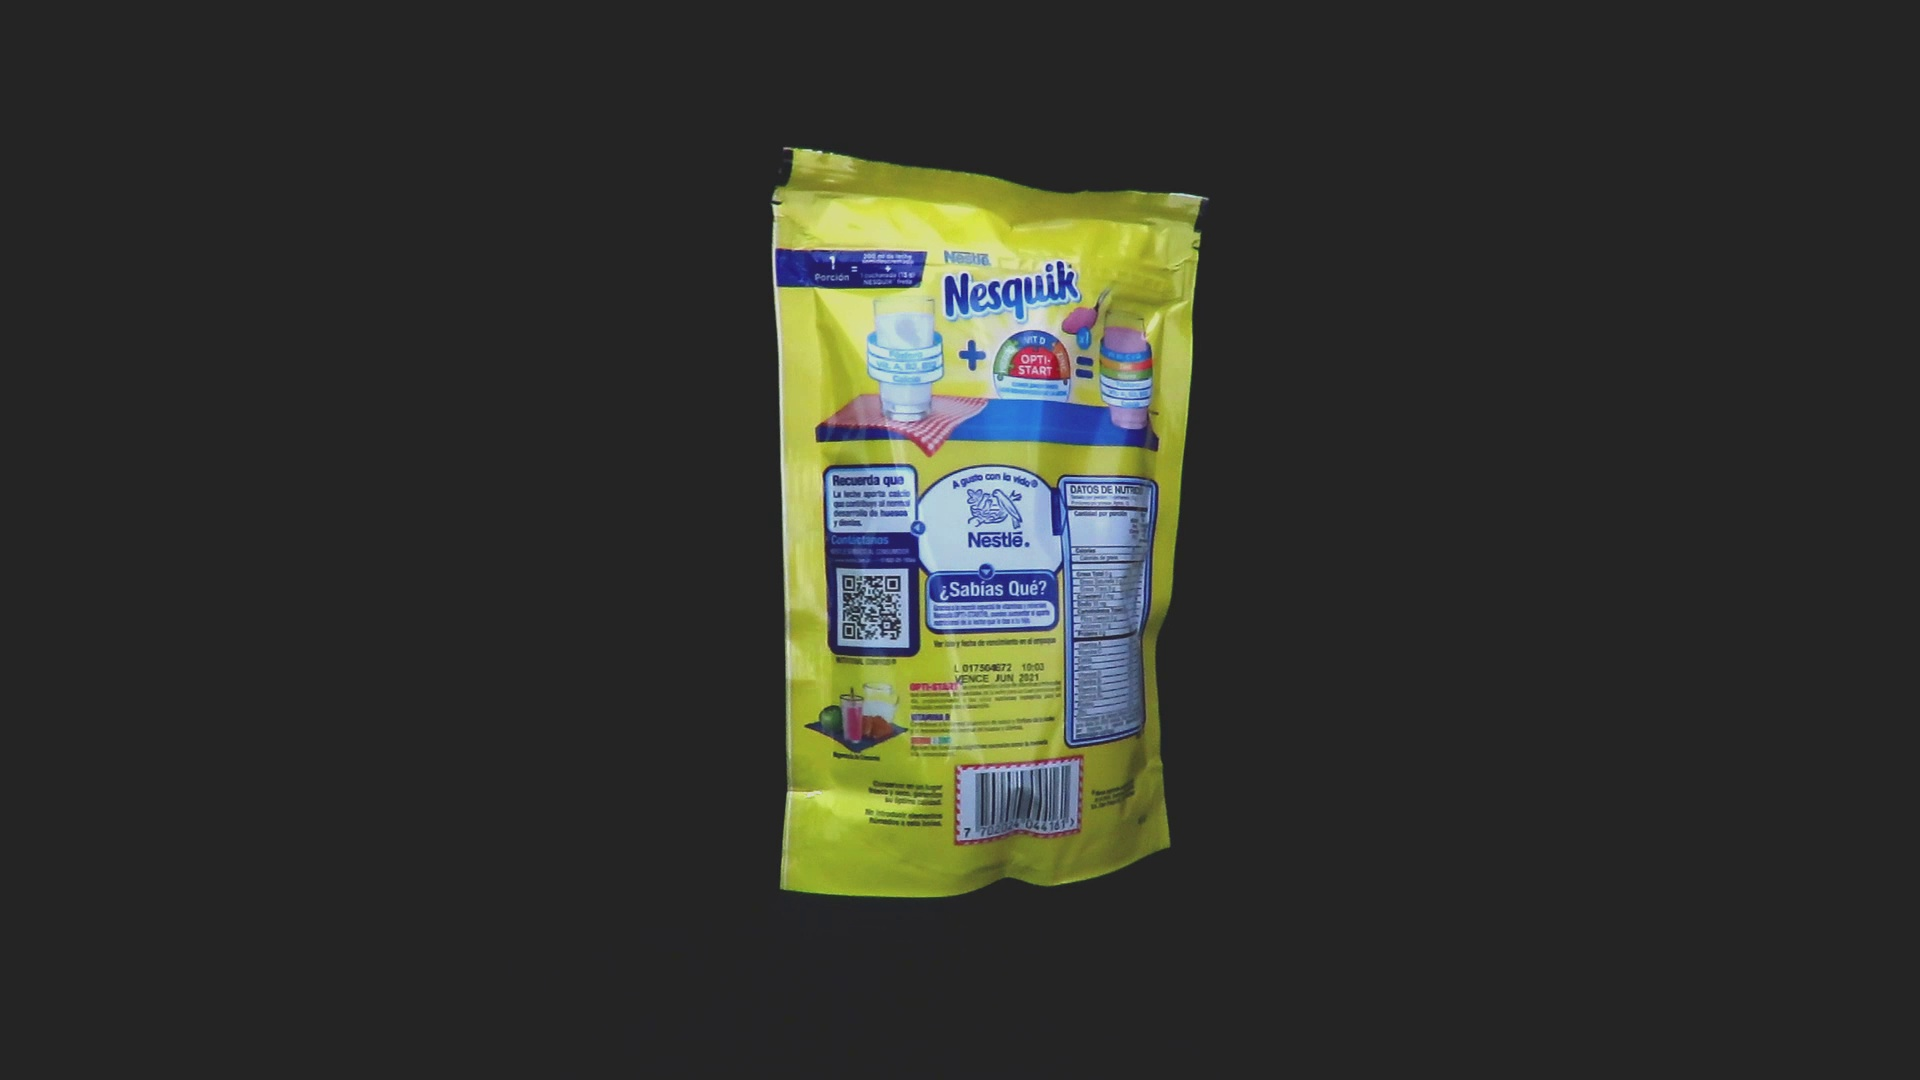COL0170305DYP20000: (766, 142, 1215, 905)
